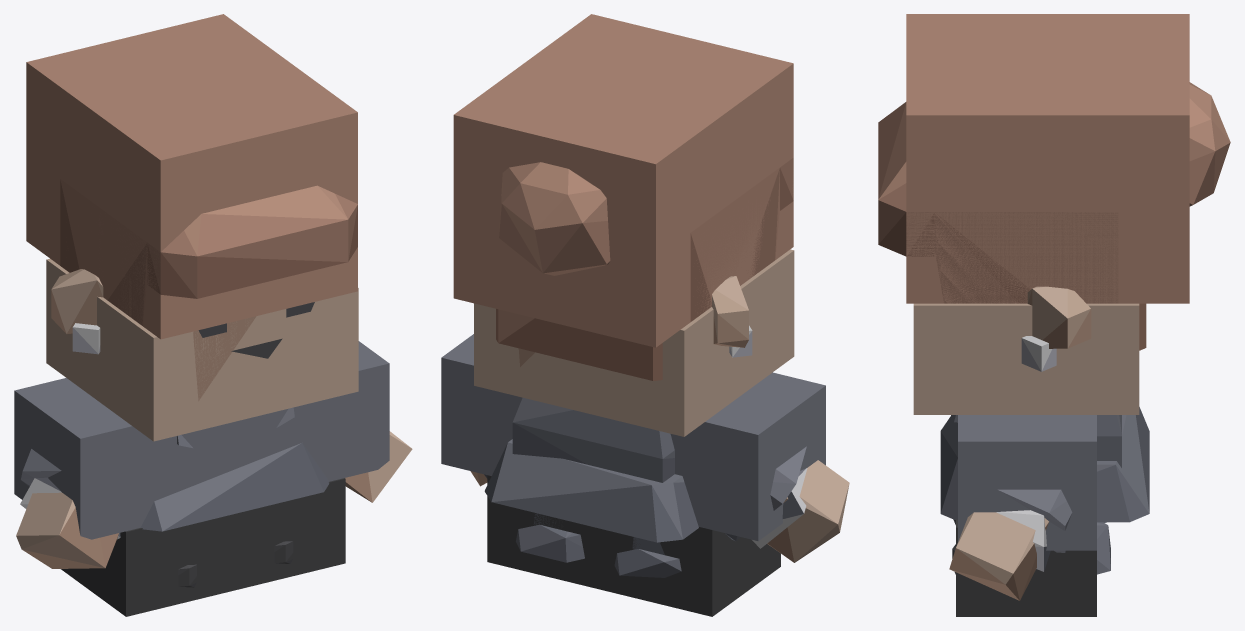
File: person.female-d.glb
The picture shows the model from 3 angles, left to right: view 1: azimuth 30°, elevation 25°; view 2: azimuth 150°, elevation 25°; view 3: azimuth 270°, elevation 25°; orthographic projection. The views are drawn at different scales.
Parts seen in each view (by area): view 1: far, near; view 2: far, near; view 3: far, near.
Boxes of the visible parts, bbox=[...] form: far: bbox=[14, 14, 389, 616]; near: bbox=[16, 179, 412, 587]; far: bbox=[441, 14, 825, 616]; near: bbox=[470, 158, 849, 588]; far: bbox=[906, 14, 1189, 616]; near: bbox=[878, 82, 1230, 600].
Size of the model in its own units: 1.46 by 1.7 by 1.1.
